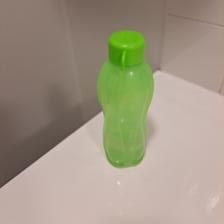bottle: (94, 30, 155, 169)
